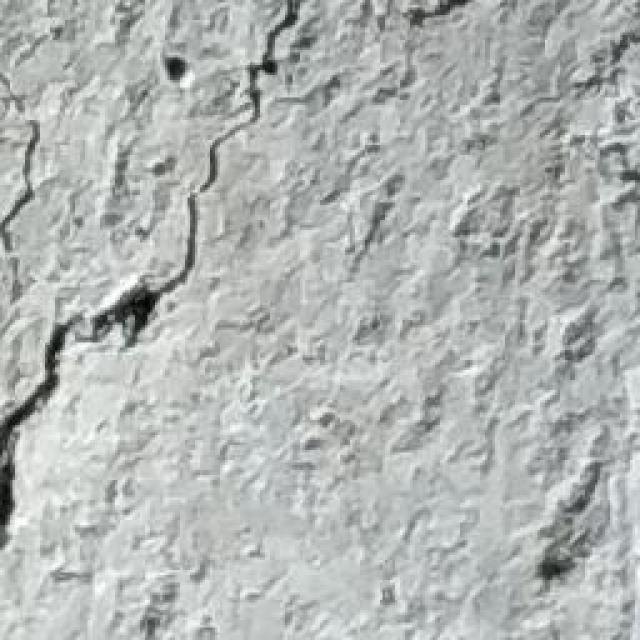Radial: (0, 0, 305, 568)
Rippled: (316, 0, 640, 640)
